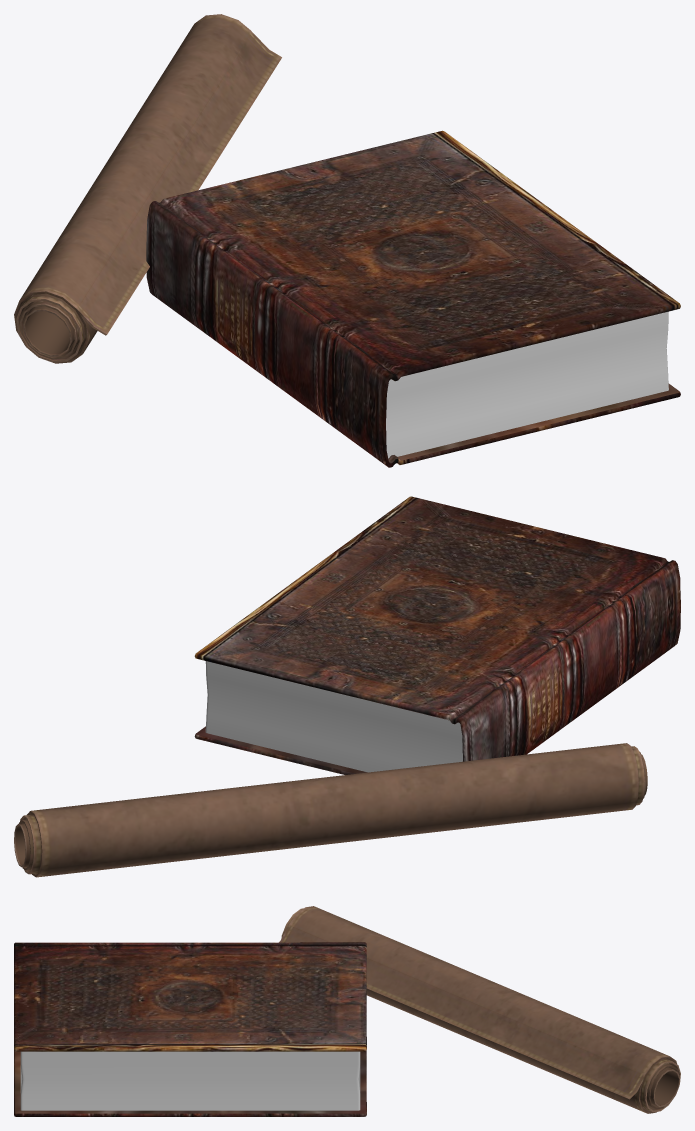
3 views of the same model, one above another, from view 1: azimuth 30°, elevation 25°; view 2: azimuth 150°, elevation 25°; view 3: azimuth 270°, elevation 25° (orthographic). The views are drawn at different scales.
Visible parts, largest first — view 1: Old leather book, Leather roll long.001; view 2: Old leather book, Leather roll long.001; view 3: Old leather book, Leather roll long.001.
Boxes of the visible parts, left/top/right/bottom form: Old leather book: left=146, top=130, right=680, bottom=467; Leather roll long.001: left=14, top=14, right=281, bottom=363; Old leather book: left=194, top=496, right=680, bottom=774; Leather roll long.001: left=14, top=743, right=647, bottom=877; Old leather book: left=14, top=942, right=366, bottom=1116; Leather roll long.001: left=279, top=906, right=680, bottom=1113.
Bounding box in the file's own units: 29.33 × 5.62 × 47.9.
3 materials, 2 textured.
